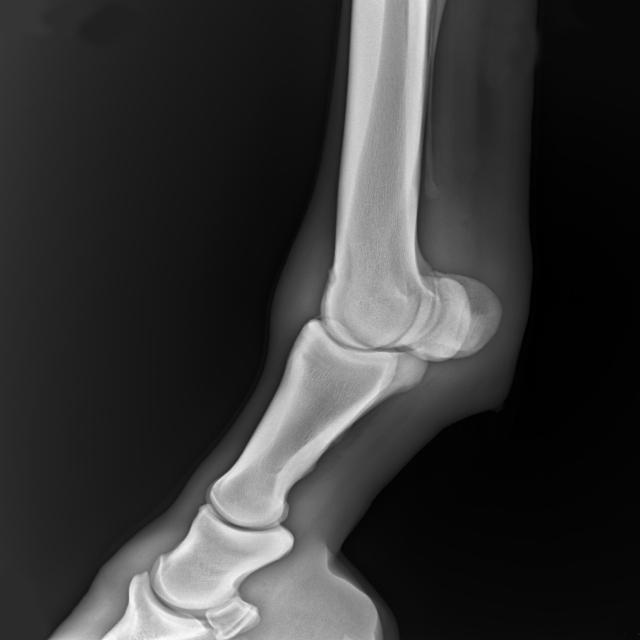joint-ht8A: (253, 178, 533, 449)
